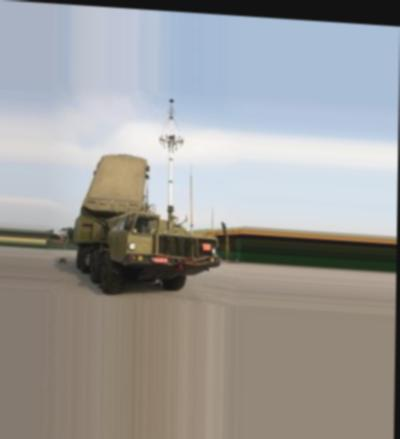License_Plate: (149, 256, 171, 268)
